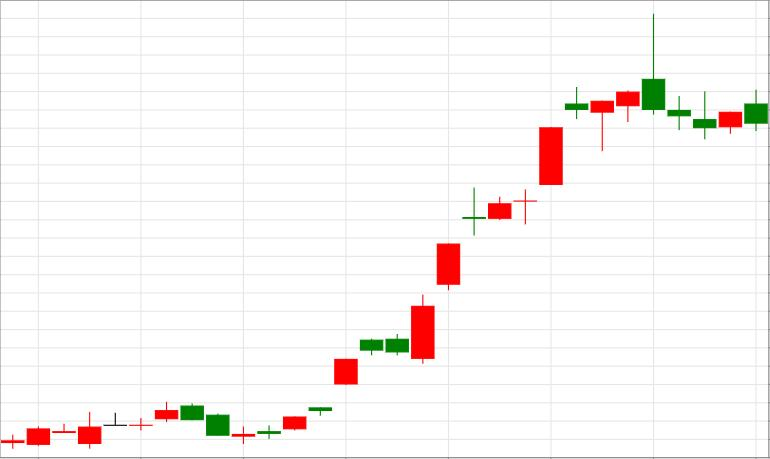shooting_star_fall: (411, 14, 665, 364)
